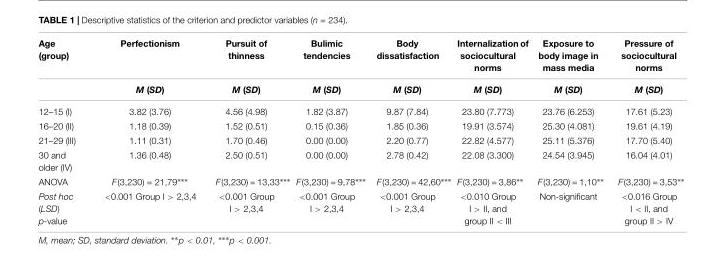table: (37, 37, 683, 225)
table column: (88, 37, 205, 225), (205, 37, 292, 225), (370, 37, 453, 225), (453, 37, 532, 225), (292, 37, 370, 225), (532, 37, 610, 225), (610, 37, 683, 225), (37, 37, 88, 225)
table column header: (37, 37, 683, 99)
table row: (37, 37, 683, 77), (37, 188, 683, 225), (37, 146, 683, 173), (37, 77, 683, 99), (37, 99, 683, 117), (37, 117, 683, 132), (37, 173, 683, 188), (37, 132, 683, 146)
table spanning cell: (88, 37, 205, 99), (205, 37, 292, 99), (370, 37, 453, 99), (453, 37, 532, 99), (292, 37, 370, 99), (532, 37, 610, 99), (610, 37, 683, 99), (37, 37, 88, 99)
